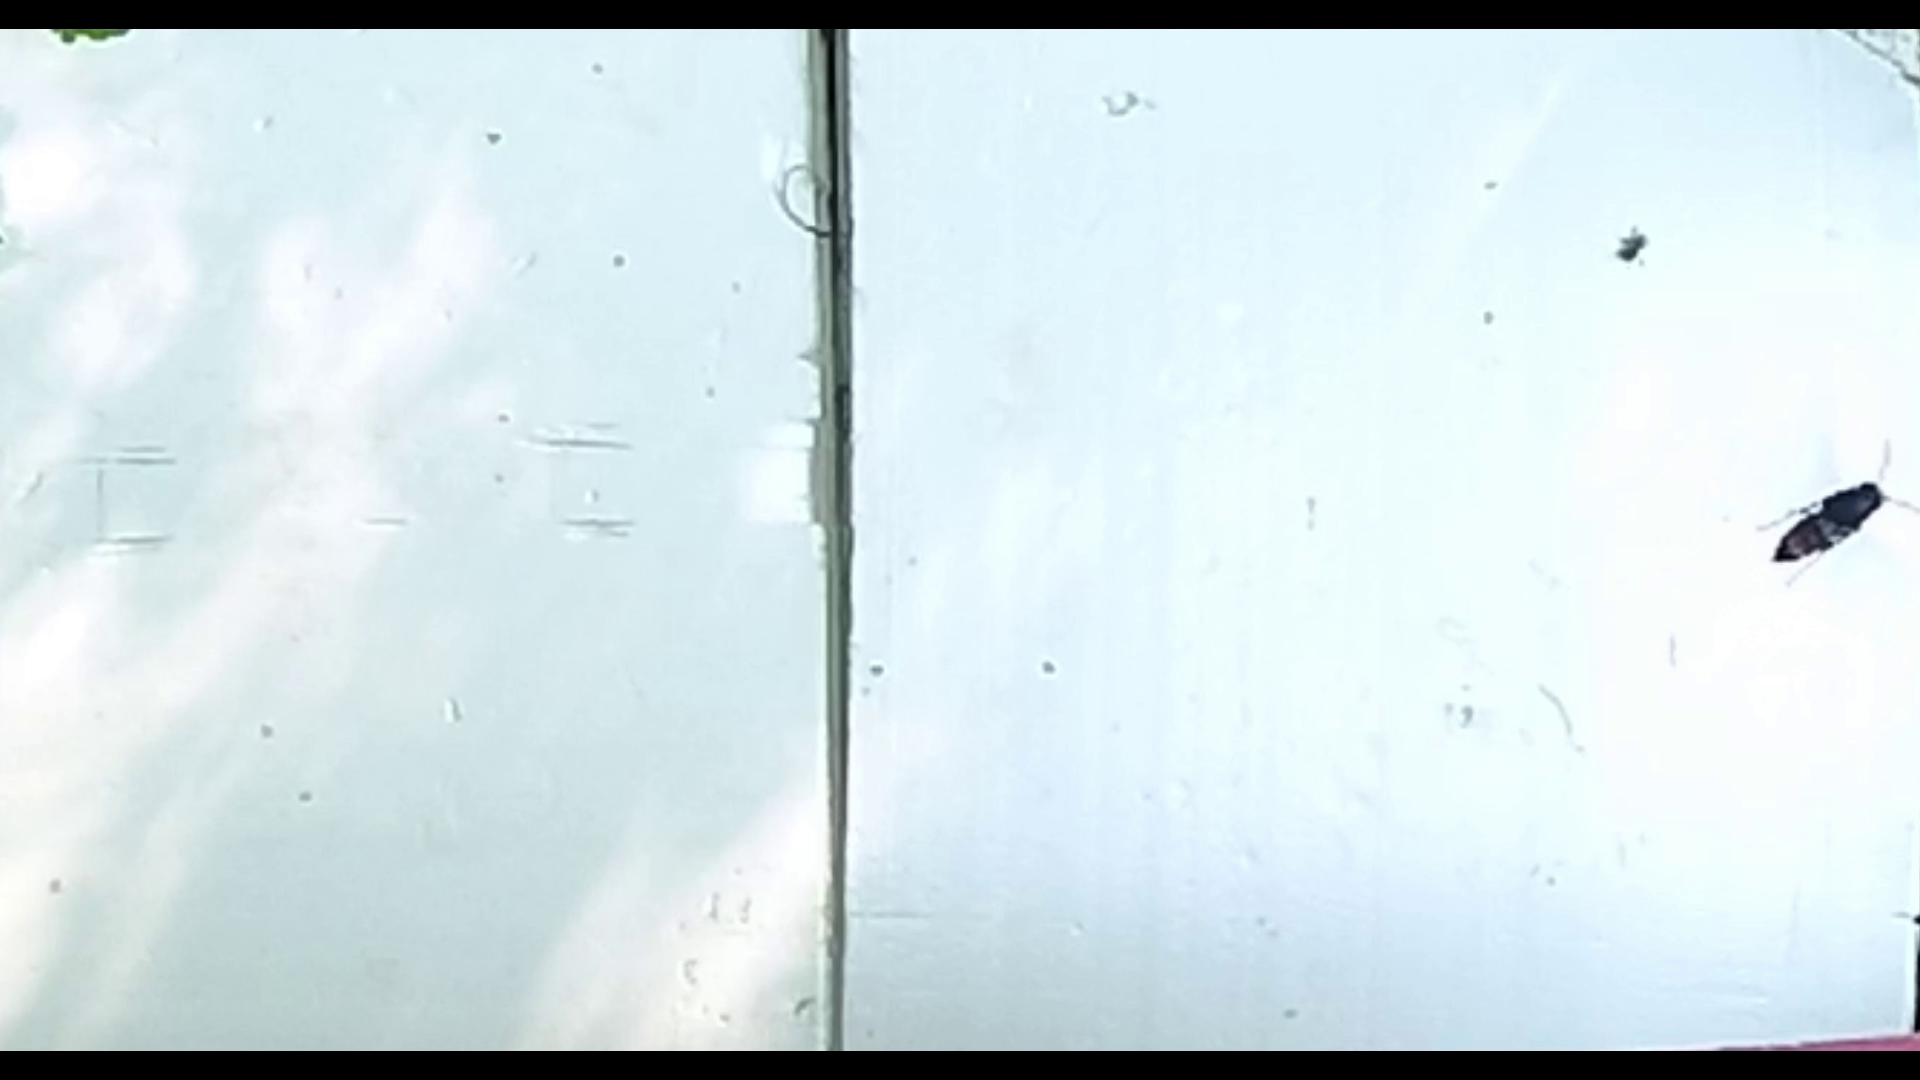Asian_hornets: (1733, 410, 1917, 596)
